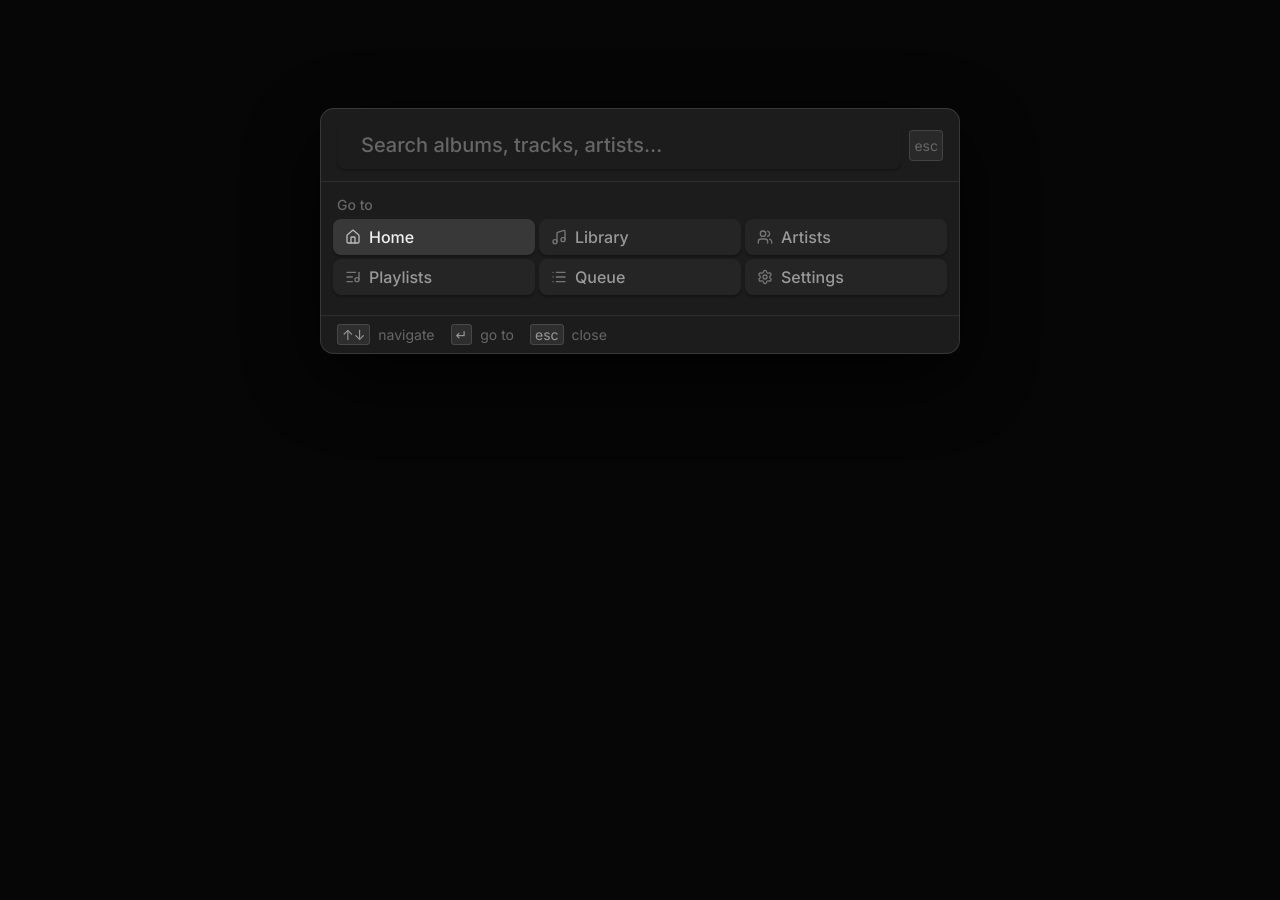
CommandPalette commands in search › still offers commands when the library search fails
Type "r" into the dropdown with class "cp-input" at (619, 145), box x1=337 y1=121 x2=901 y2=169
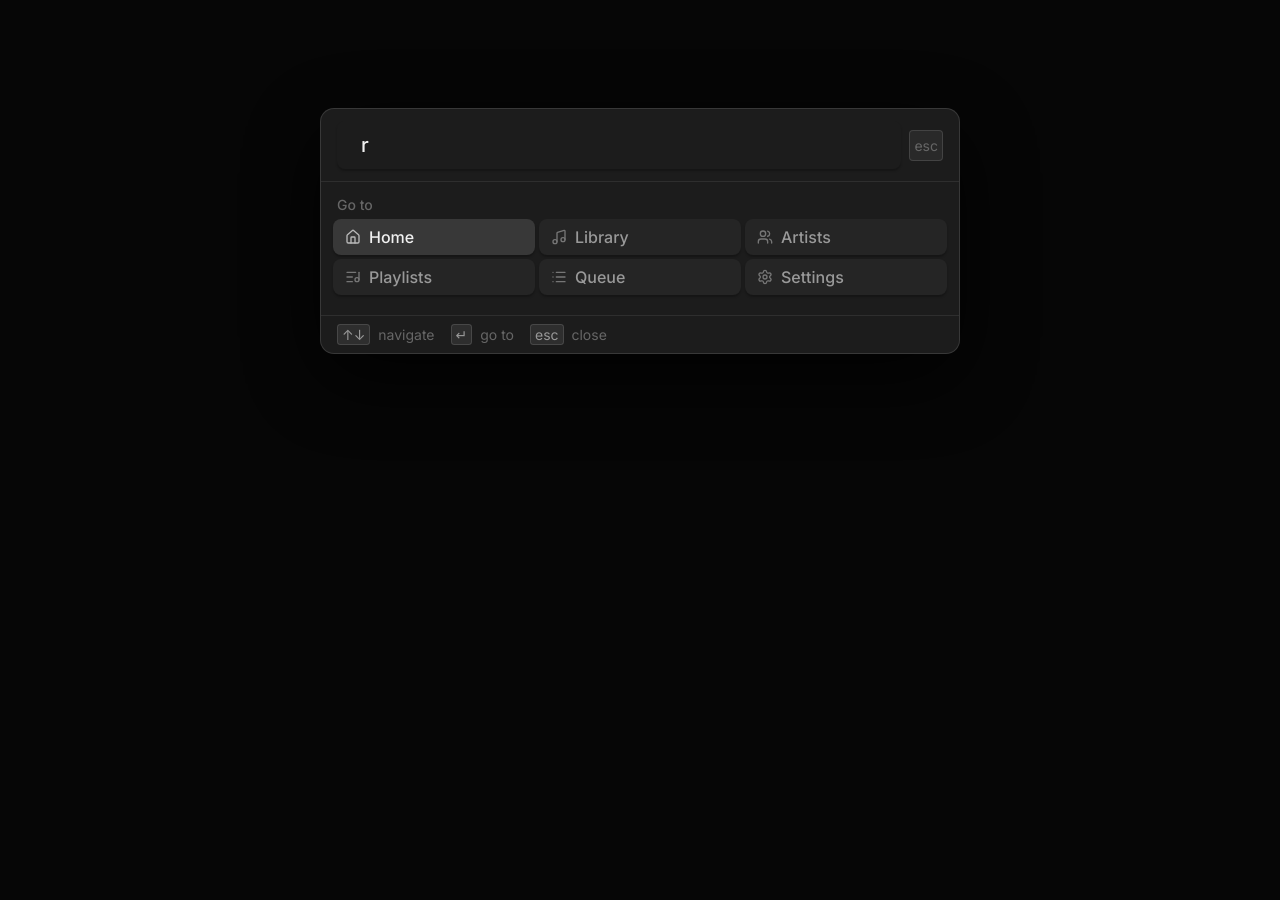
Replace the text in the dropdown with class "cp-input" with "re" at (619, 145), box x1=337 y1=121 x2=901 y2=169
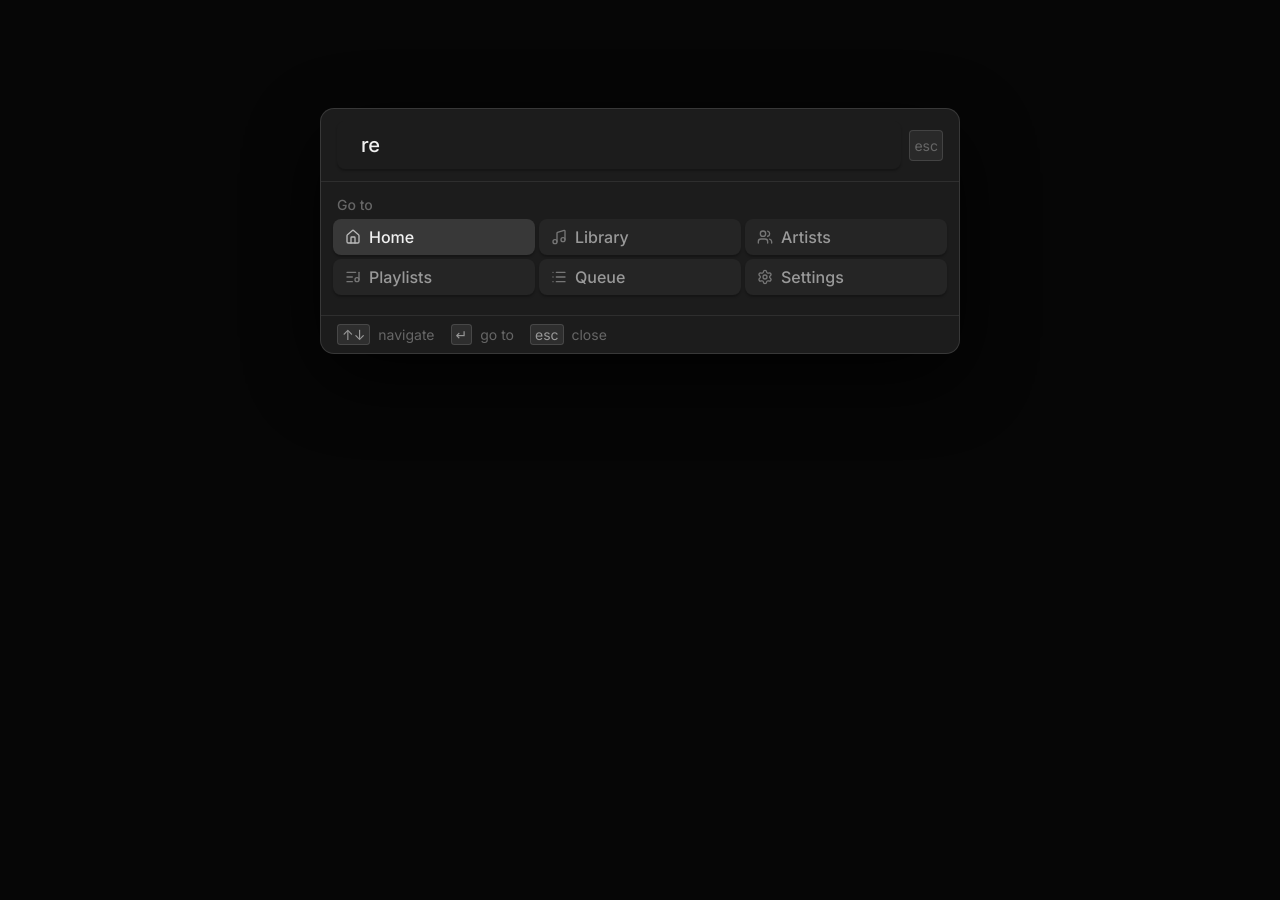
Replace the text in the dropdown with class "cp-input" with "res" at (619, 145), box x1=337 y1=121 x2=901 y2=169
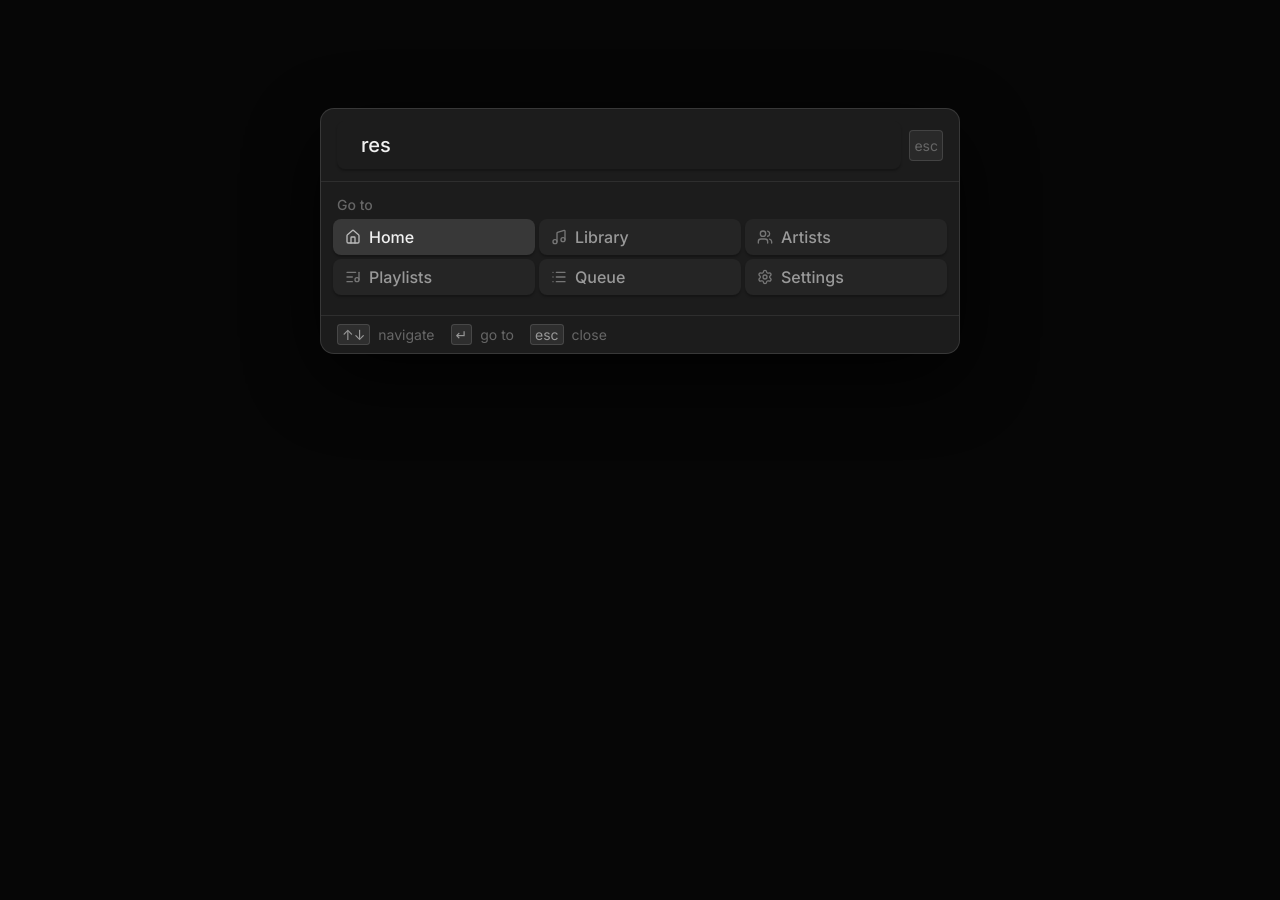
Replace the text in the dropdown with class "cp-input" with "resy" at (619, 145), box x1=337 y1=121 x2=901 y2=169
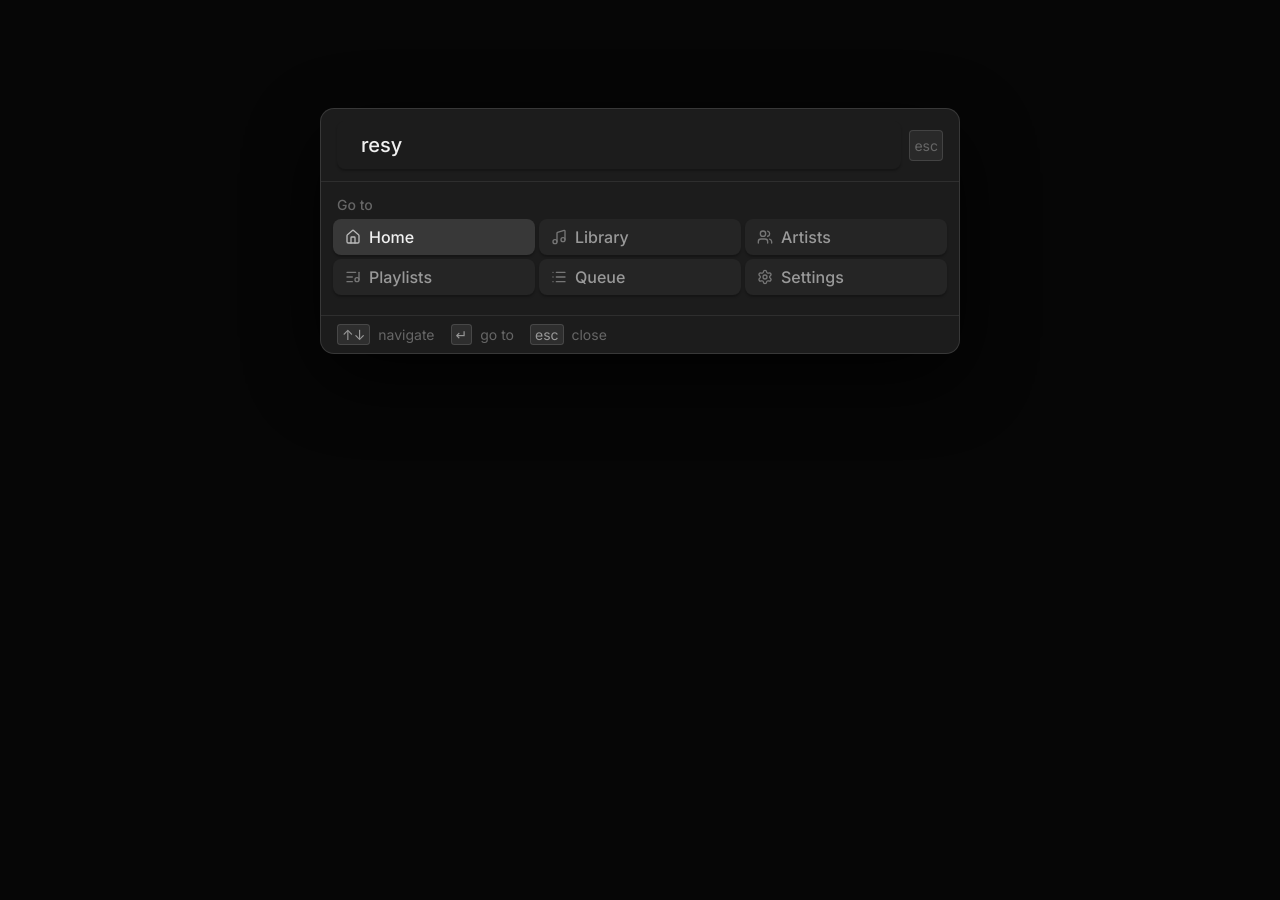
Replace the text in the dropdown with class "cp-input" with "resyn" at (619, 145), box x1=337 y1=121 x2=901 y2=169
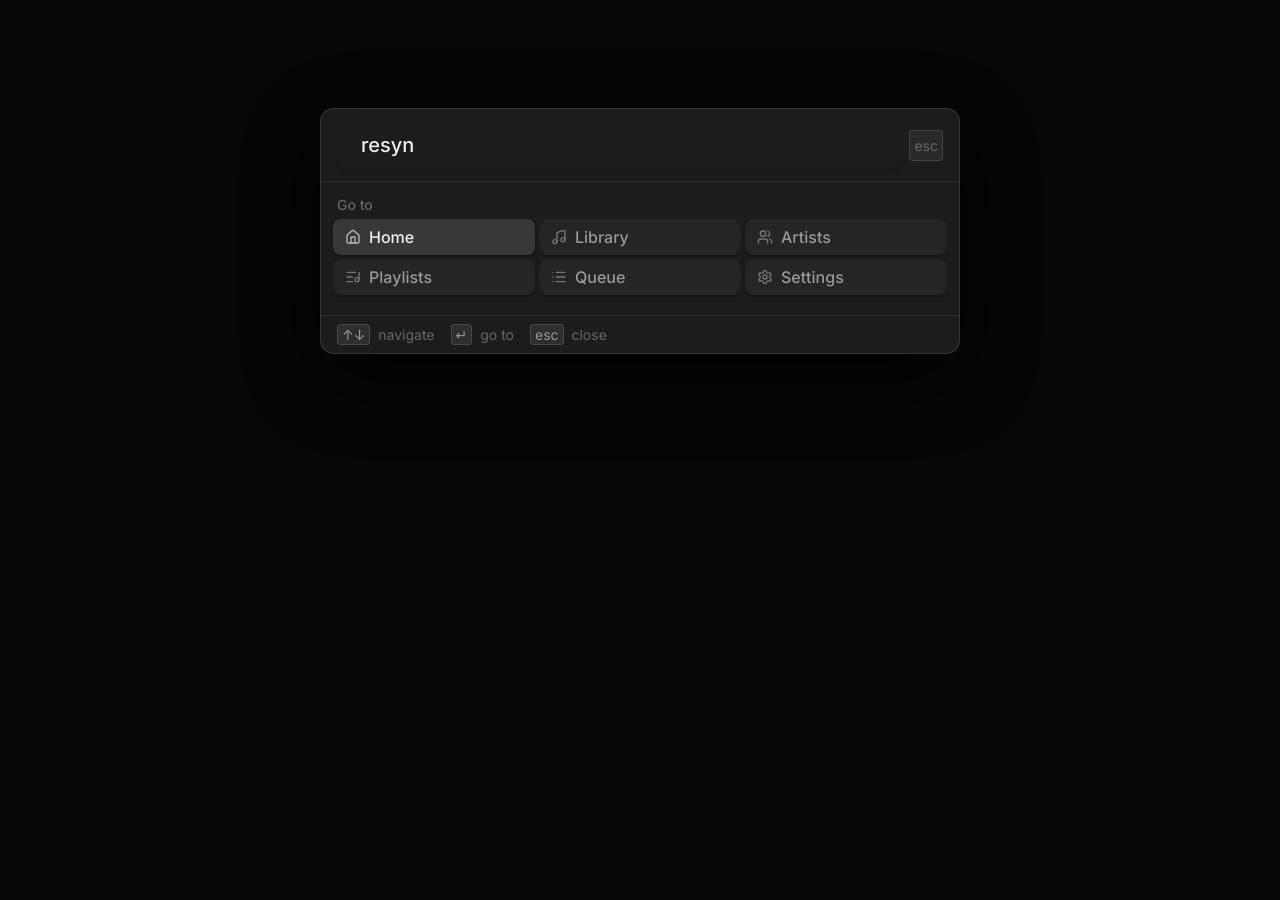
Replace the text in the dropdown with class "cp-input" with "resync" at (619, 145), box x1=337 y1=121 x2=901 y2=169
Wait 150 ms
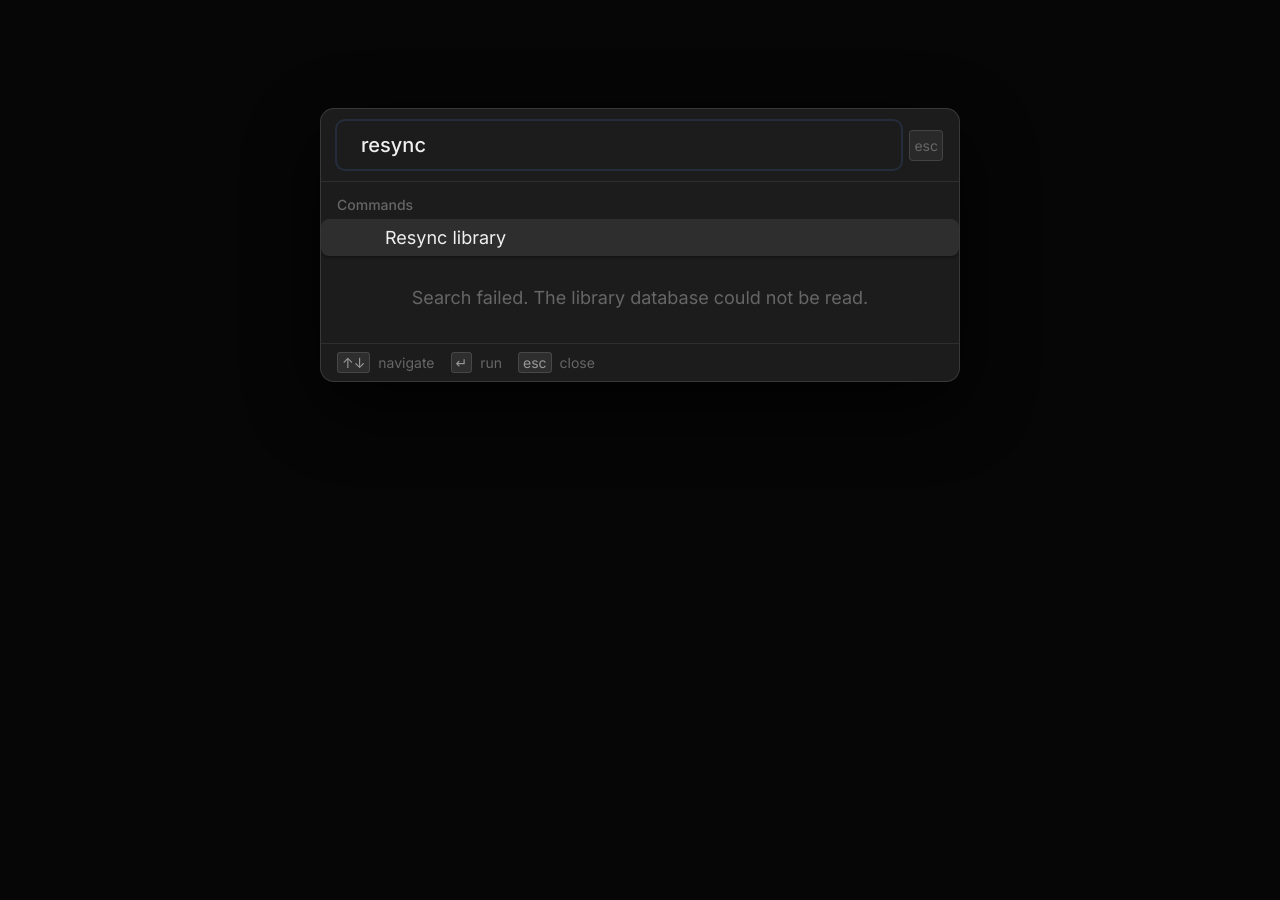
Expected: the text with class "cp-empty" reads "Search failed. The library database could not be read.", x1=412 y1=287 x2=868 y2=308
